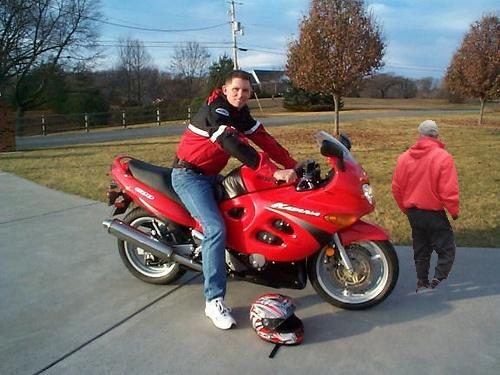tampered: (393, 121, 459, 293)
